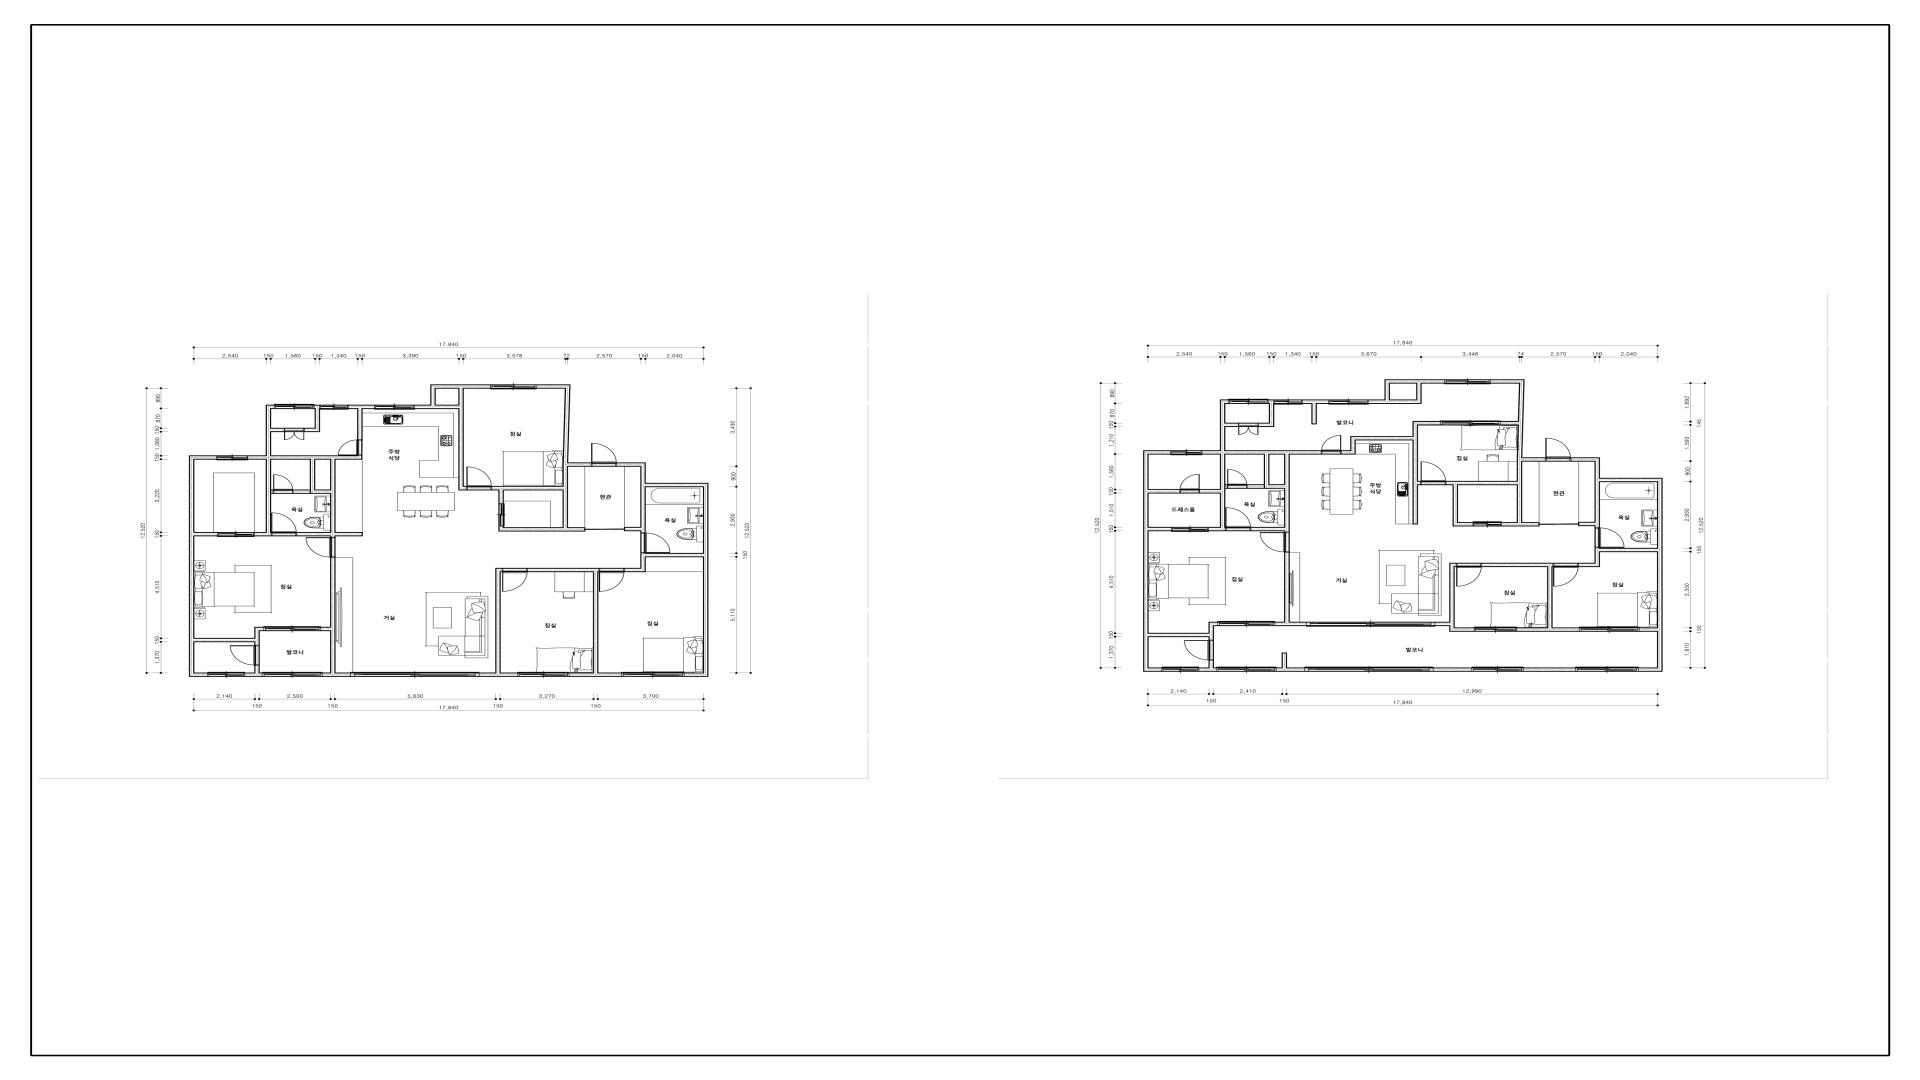door: (1184, 640, 1215, 661), (229, 645, 260, 666), (1456, 563, 1482, 587), (1420, 462, 1447, 485), (1225, 508, 1251, 531), (270, 513, 297, 537), (599, 568, 625, 592), (591, 443, 617, 467), (306, 537, 335, 558), (1594, 527, 1625, 547), (1259, 533, 1290, 553), (1553, 563, 1578, 587), (1545, 438, 1571, 462), (502, 568, 527, 592), (467, 467, 492, 491), (641, 533, 670, 553), (338, 439, 363, 455), (1228, 469, 1247, 489), (1321, 435, 1341, 455), (273, 475, 293, 495), (1180, 475, 1200, 493), (284, 427, 305, 440), (1238, 423, 1259, 435), (218, 531, 255, 537), (1473, 521, 1502, 526), (1171, 527, 1209, 531), (498, 504, 505, 526)
wall: (1143, 455, 1149, 671), (189, 460, 194, 676), (703, 483, 708, 673), (1658, 477, 1663, 667), (330, 558, 336, 673), (563, 384, 571, 463), (1516, 380, 1524, 458), (1412, 421, 1418, 525), (496, 568, 501, 673), (593, 572, 599, 673), (459, 389, 464, 487), (1225, 450, 1321, 455), (272, 455, 363, 460), (330, 460, 336, 531), (1220, 455, 1225, 531), (266, 460, 272, 537), (1284, 455, 1290, 527), (1284, 553, 1290, 621), (297, 531, 363, 537), (265, 409, 272, 460), (1594, 477, 1658, 483), (504, 527, 585, 531), (1547, 567, 1552, 628), (1516, 462, 1522, 522), (430, 384, 491, 389), (563, 467, 568, 527), (1449, 563, 1455, 621), (1600, 547, 1658, 553), (646, 553, 703, 558), (1482, 563, 1553, 567), (527, 568, 599, 572), (492, 487, 563, 491), (1447, 481, 1516, 485), (1220, 404, 1225, 455), (641, 483, 703, 487), (641, 487, 646, 533), (1518, 628, 1578, 632), (194, 638, 255, 642), (1594, 483, 1600, 527), (1385, 380, 1444, 384), (1149, 633, 1208, 637), (1263, 455, 1270, 489), (1356, 436, 1412, 440), (1453, 485, 1458, 526), (1523, 667, 1576, 671), (570, 673, 621, 676), (310, 460, 315, 493), (1275, 621, 1305, 626), (357, 409, 363, 439), (1433, 667, 1472, 671), (1502, 522, 1540, 526), (1251, 527, 1290, 531), (537, 384, 564, 389), (1143, 450, 1171, 455), (189, 455, 216, 460), (480, 673, 517, 676), (1311, 404, 1317, 425), (1149, 489, 1180, 493), (194, 531, 218, 537), (1208, 621, 1215, 640), (1418, 421, 1440, 426), (563, 463, 592, 467), (1516, 458, 1545, 462), (1490, 380, 1519, 384), (1276, 667, 1304, 671), (323, 673, 351, 676), (641, 463, 646, 483), (1594, 458, 1600, 477), (1385, 384, 1390, 404), (1390, 400, 1416, 404), (1416, 384, 1422, 404), (1435, 621, 1455, 626), (1269, 404, 1274, 423), (430, 389, 435, 409), (348, 405, 375, 409), (1303, 400, 1328, 404), (248, 455, 266, 460), (255, 626, 260, 645), (315, 409, 320, 427), (684, 673, 708, 676), (617, 463, 641, 467), (1639, 667, 1663, 671), (1571, 458, 1594, 462), (435, 405, 459, 409), (1203, 450, 1220, 455), (1501, 421, 1518, 426), (293, 489, 310, 495), (1149, 527, 1171, 531), (1578, 563, 1600, 567), (1594, 547, 1600, 563), (1247, 484, 1263, 489), (625, 568, 646, 572), (641, 553, 646, 568), (305, 427, 320, 433), (1455, 628, 1474, 632), (1200, 489, 1220, 493), (1282, 653, 1287, 667), (1341, 450, 1356, 455), (1270, 484, 1284, 489), (1639, 628, 1658, 632), (1149, 667, 1162, 673), (1350, 436, 1356, 450), (1225, 422, 1238, 427), (498, 491, 504, 504), (1199, 667, 1216, 671), (624, 527, 641, 531), (245, 673, 262, 676), (1369, 400, 1385, 404), (1578, 522, 1594, 526), (1258, 423, 1274, 427), (255, 531, 266, 537), (272, 427, 284, 433), (1458, 522, 1473, 526), (415, 405, 430, 409), (315, 489, 330, 493), (194, 673, 207, 676), (320, 626, 330, 632), (1208, 661, 1215, 667), (1209, 527, 1220, 531), (265, 405, 274, 409), (255, 666, 260, 673), (1220, 400, 1228, 404), (459, 487, 467, 491), (1449, 626, 1455, 632), (498, 526, 504, 531), (1269, 400, 1274, 404), (315, 405, 320, 409), (260, 626, 264, 632), (1215, 622, 1217, 626), (1418, 481, 1420, 485), (1455, 563, 1456, 567), (501, 568, 502, 572), (1284, 531, 1290, 531), (330, 537, 336, 537)
window: (1305, 621, 1435, 626), (1304, 667, 1433, 671), (351, 673, 480, 676), (621, 671, 684, 676), (1440, 421, 1501, 426), (1578, 626, 1639, 632), (1217, 621, 1275, 626), (264, 626, 320, 632), (1576, 667, 1639, 671), (491, 384, 537, 389), (1216, 667, 1276, 671), (262, 673, 323, 676), (1474, 626, 1518, 632), (1328, 400, 1369, 405), (1228, 398, 1269, 404), (375, 405, 415, 410), (517, 673, 570, 676), (274, 404, 314, 409), (1472, 667, 1523, 671), (207, 671, 245, 676), (1444, 380, 1490, 384), (1171, 450, 1203, 455), (216, 455, 248, 460), (1274, 400, 1303, 405), (1162, 667, 1199, 671), (320, 405, 348, 410)
